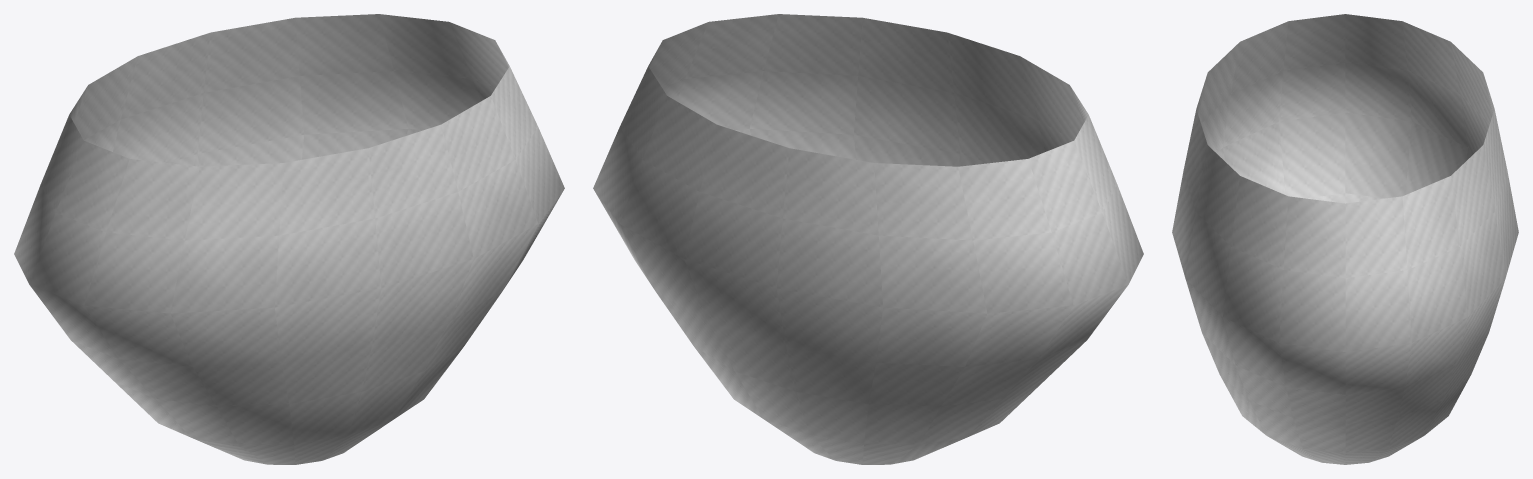
Rendered from pants_trousers_hips_f.glb.
3 views of the same model, side by side, from view 1: azimuth 30°, elevation 25°; view 2: azimuth 150°, elevation 25°; view 3: azimuth 270°, elevation 25° (orthographic). The views are drawn at different scales.
Parts seen in each view (by area): view 1: pants_trousers_hips_f; view 2: pants_trousers_hips_f; view 3: pants_trousers_hips_f.
Part boxes in pixels (box(x1,y1,x2,y2)): pants_trousers_hips_f: box(14, 14, 564, 464); pants_trousers_hips_f: box(593, 14, 1143, 464); pants_trousers_hips_f: box(1172, 14, 1518, 464).
Bounding box in the file's own units: 0.416 × 0.265 × 0.2544.
Materials: 1 (1 with a texture image).
